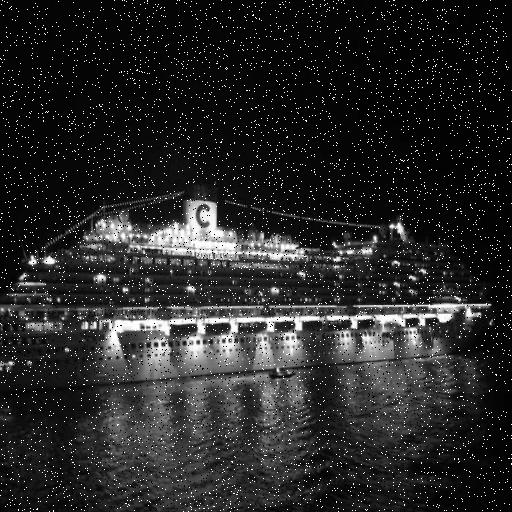cruises: (1, 181, 495, 396)
